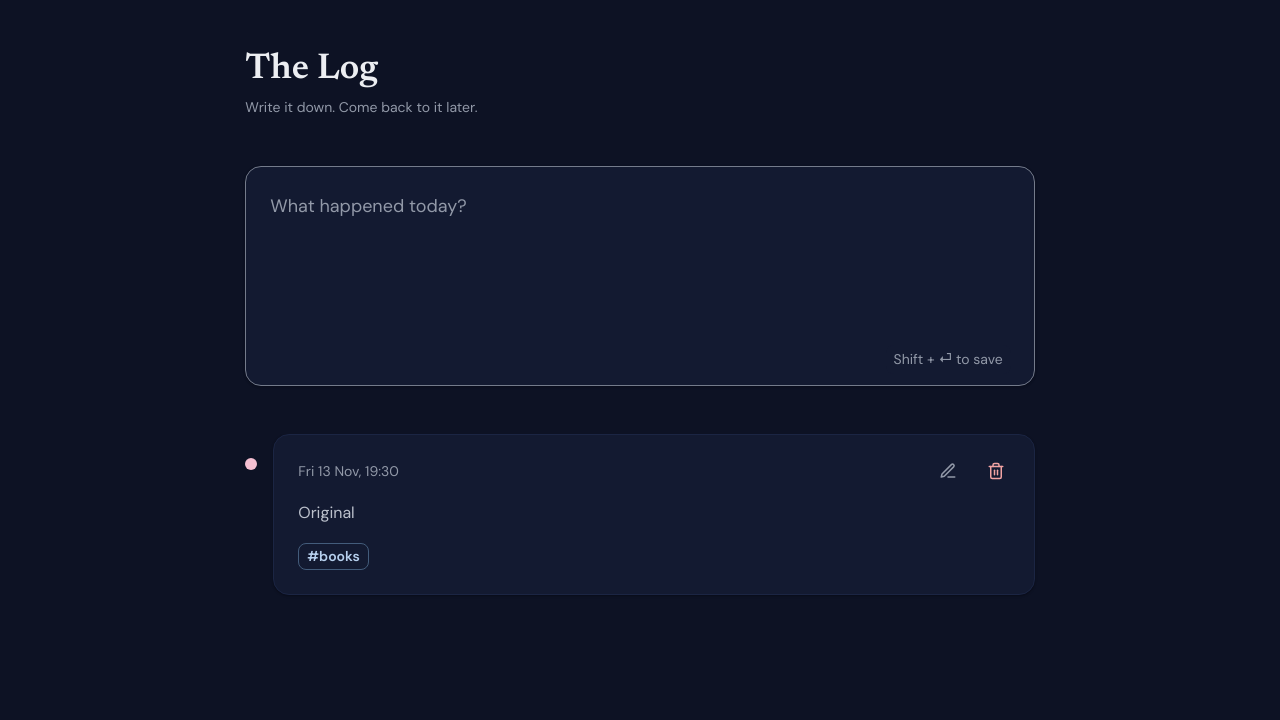
Test: opens Edit with the text, its tags line and the note that the time stays
Click the button named "Edit thought, Fri 13 Nov, 19:30": x=948, y=471 [926, 449, 970, 493]
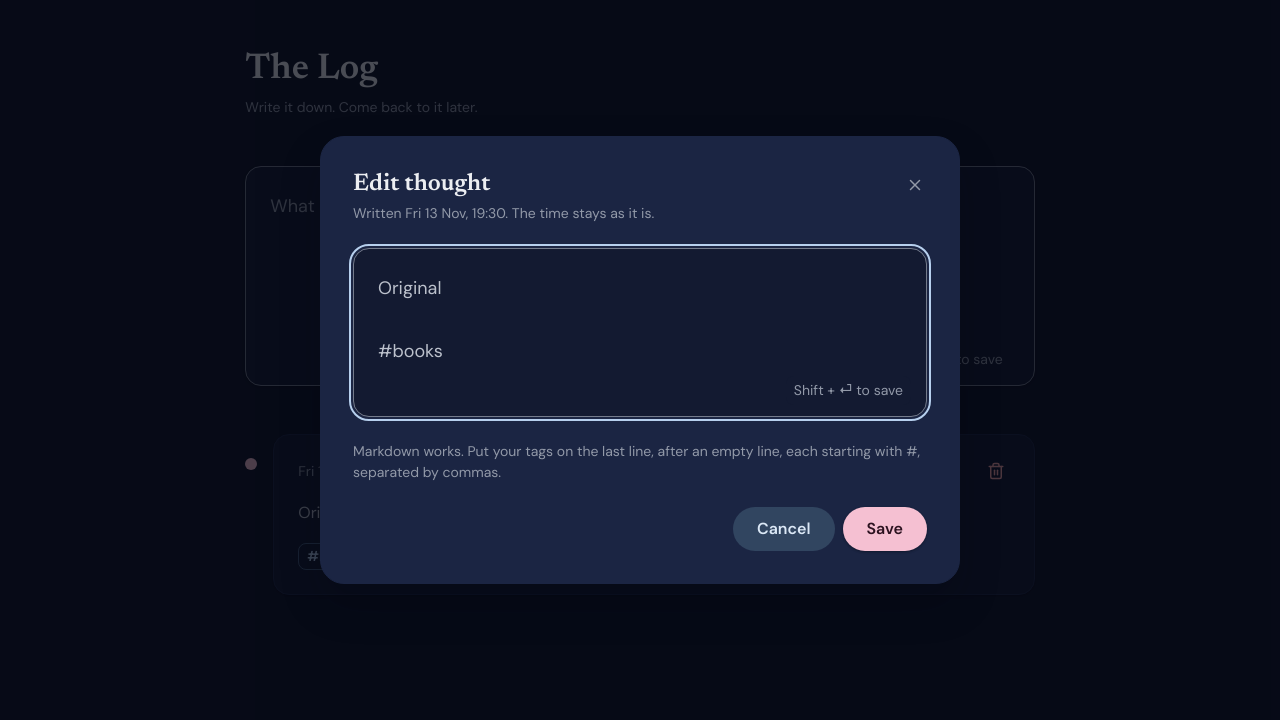
Expected: the element with class "edit-dialog__time" reads "Written Fri 13 Nov, 19:30. The time stays as it is.", [353, 203, 654, 224]
